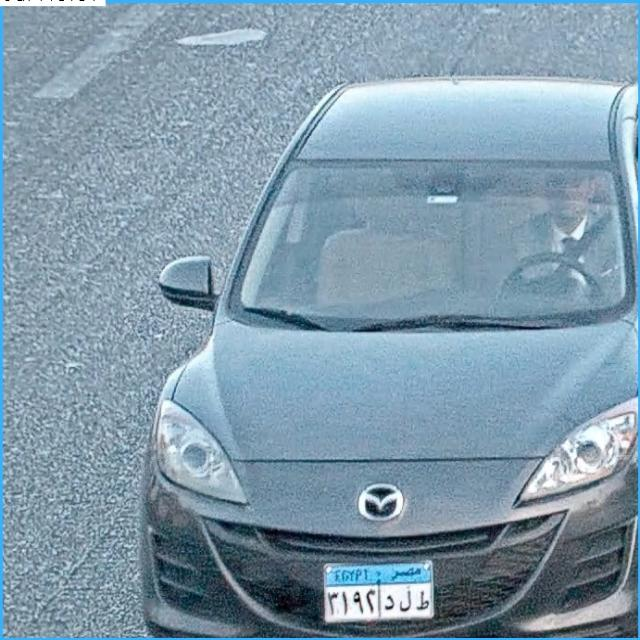windshield: (228, 158, 632, 315)
